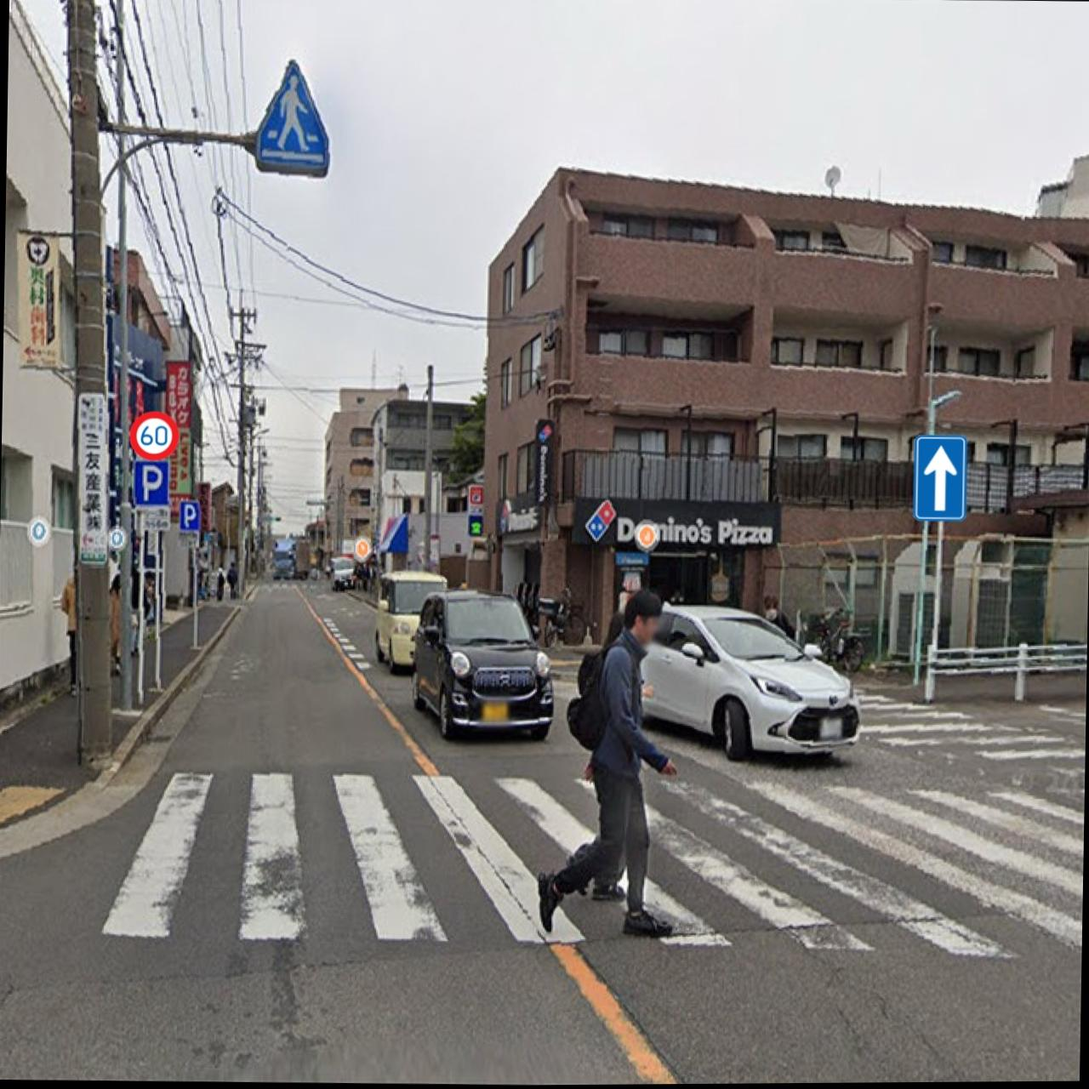cone: (127, 54, 383, 218)
